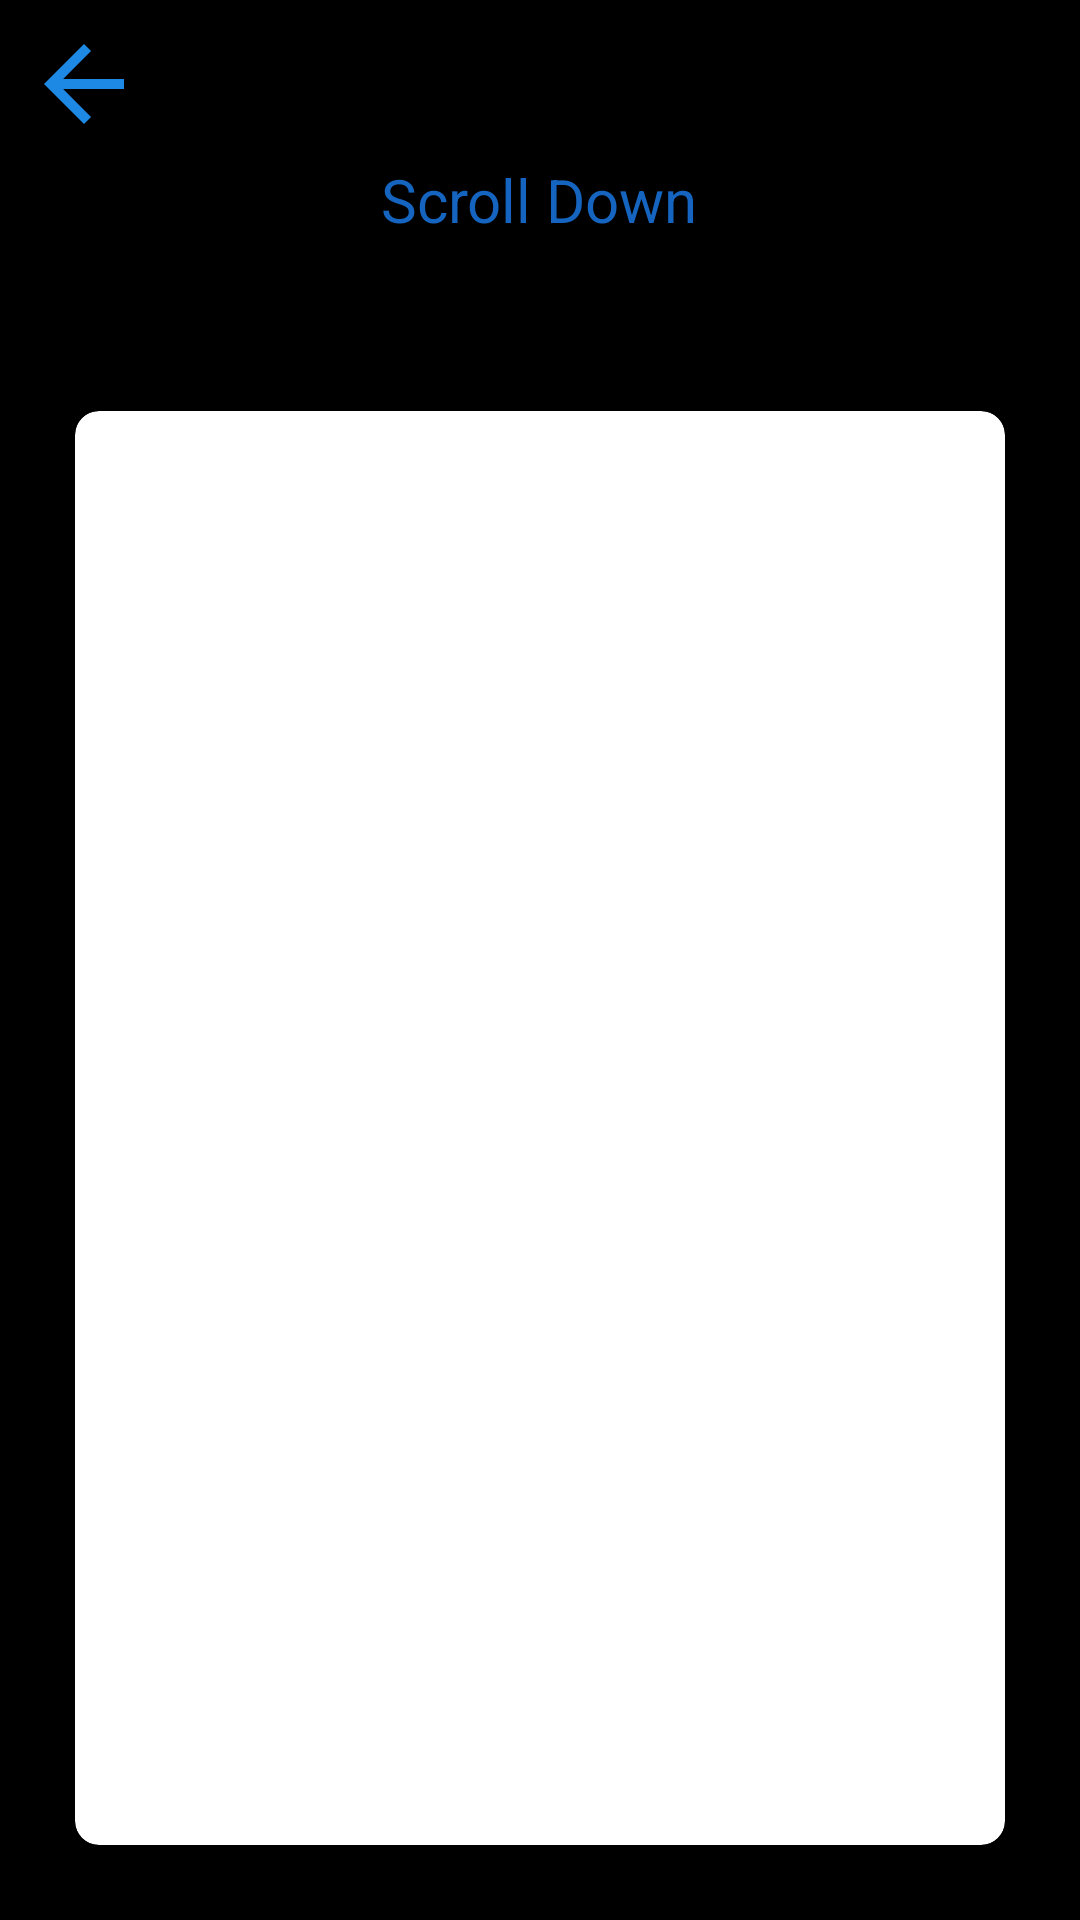

Icon bounding boxes for this 1080*1920 phone screenshot, format (x1, y1, x2, y2):
go back: (44, 44, 124, 124)
